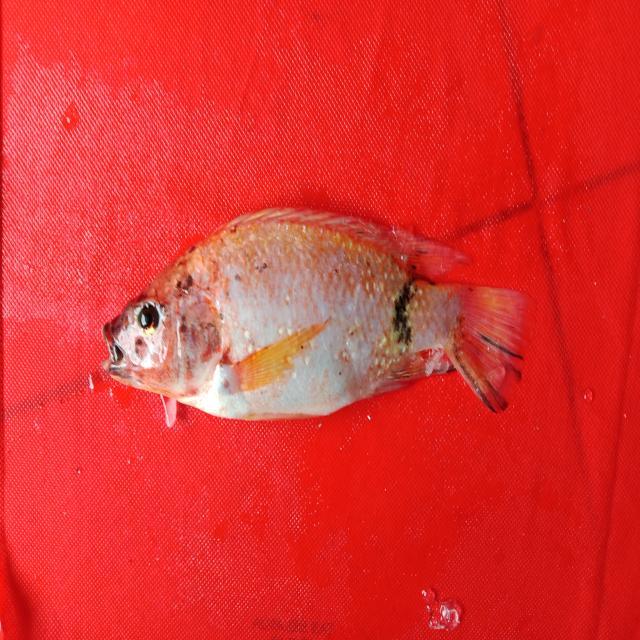ikan: (88, 185, 544, 450)
